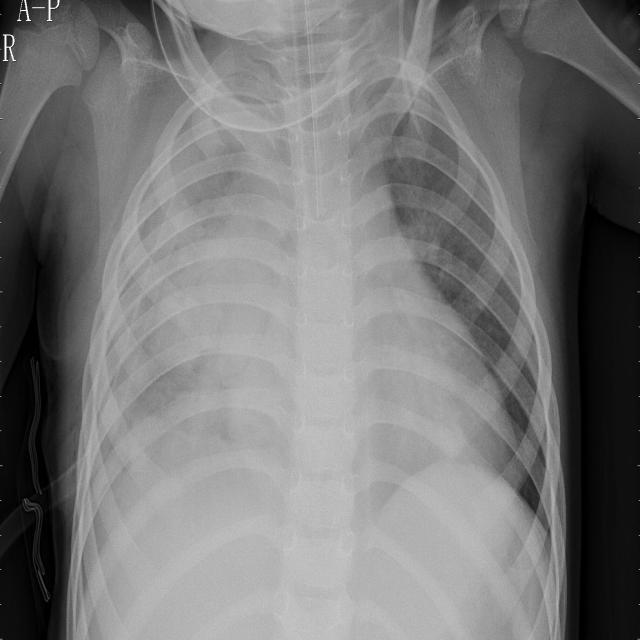high-pneumonia: (99, 373, 279, 591), (159, 227, 258, 385), (210, 125, 299, 293)
